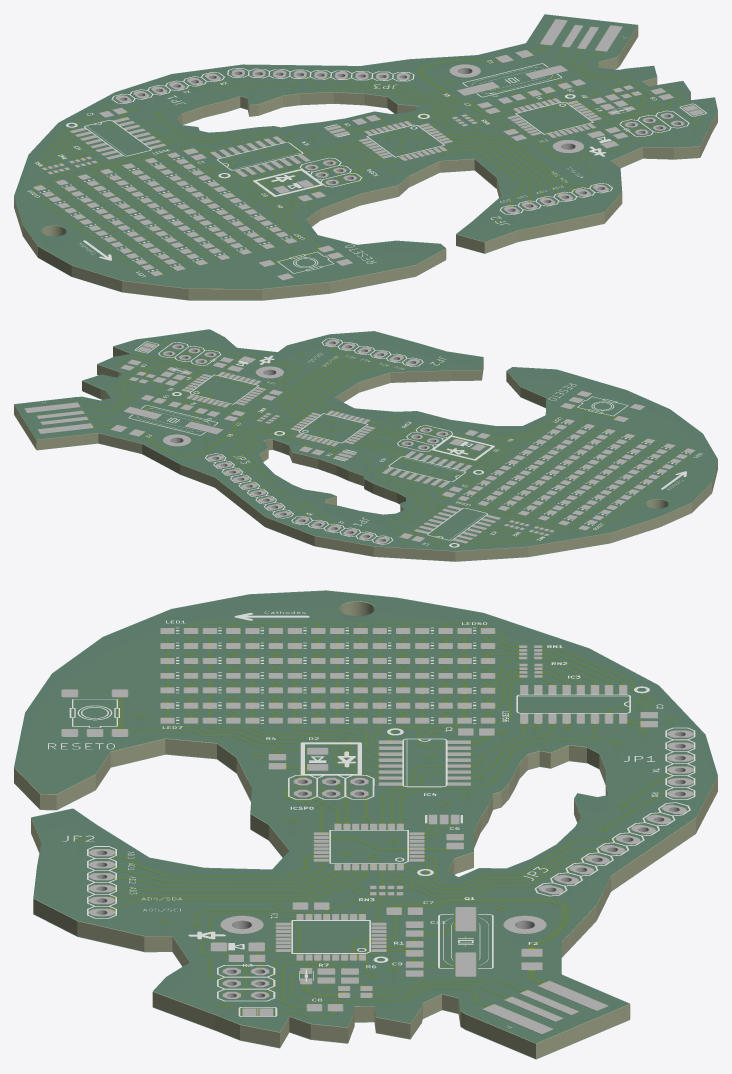
Rendered from grrcon-2013-badge.glb.
3 views of the same model, one above another, from view 1: azimuth 30°, elevation 25°; view 2: azimuth 150°, elevation 25°; view 3: azimuth 270°, elevation 25° (orthographic). The views are drawn at different scales.
Parts seen in each view (by area): view 1: =>[0:1:1:7], =>[0:1:1:9], =>[0:1:1:2], =>[0:1:1:5]; view 2: =>[0:1:1:7], =>[0:1:1:9], =>[0:1:1:2], =>[0:1:1:5]; view 3: =>[0:1:1:7], =>[0:1:1:9], =>[0:1:1:2], =>[0:1:1:5].
Boxes of the visible parts, x1,y1,x2,y2 form: =>[0:1:1:7]: (14,14,717,300); =>[0:1:1:9]: (14,15,717,300); =>[0:1:1:2]: (33,19,703,280); =>[0:1:1:5]: (28,36,706,277); =>[0:1:1:7]: (14,329,717,561); =>[0:1:1:9]: (14,330,717,561); =>[0:1:1:2]: (25,339,694,546); =>[0:1:1:5]: (42,338,702,547); =>[0:1:1:7]: (14,590,717,1059); =>[0:1:1:9]: (14,591,717,1058); =>[0:1:1:2]: (62,623,692,1034); =>[0:1:1:5]: (48,611,695,1028).
Size of the model in its own units: 0.0962 by 0.00166 by 0.0632.
Materials: 4 (4 with a texture image).
